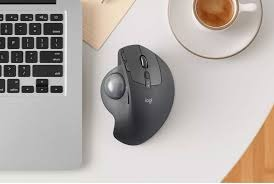mouse: (100, 44, 180, 148)
